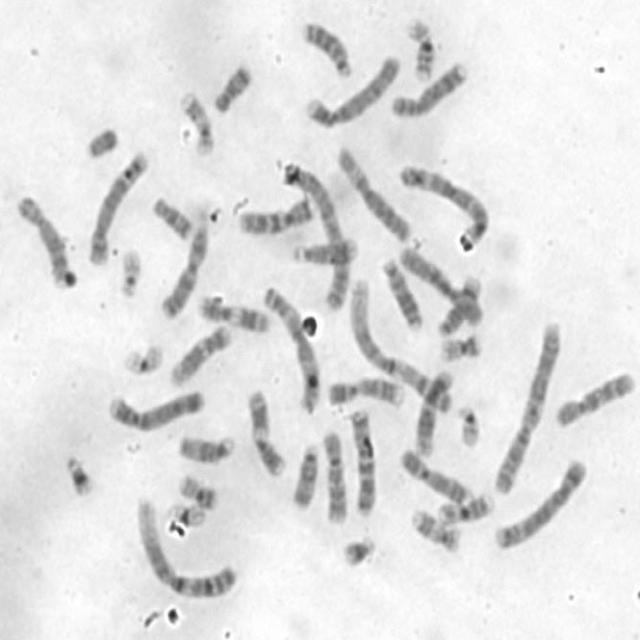A1: (348, 278, 457, 414), (134, 492, 238, 601)
A2: (492, 316, 562, 497), (282, 160, 352, 312)
A3: (400, 164, 492, 254), (263, 286, 322, 416)
B4: (304, 52, 401, 132), (106, 388, 206, 435)
B5: (492, 457, 589, 553), (88, 147, 150, 266)
C10: (554, 370, 637, 431), (322, 426, 351, 527)
C11: (246, 386, 287, 478), (198, 294, 272, 334)
C12: (169, 323, 233, 387), (413, 366, 454, 458)
C6: (336, 144, 413, 243), (398, 244, 485, 330)
C7: (348, 407, 378, 516), (238, 197, 314, 236)
C8: (16, 193, 68, 289), (389, 61, 469, 122)
C9: (398, 449, 474, 506), (325, 374, 406, 412)
D13: (298, 18, 354, 79), (380, 255, 424, 332)
D14: (437, 273, 485, 337), (291, 236, 362, 268)
D15: (290, 441, 320, 512), (177, 434, 235, 464)
E16: (406, 15, 437, 86), (436, 492, 497, 527)
E17: (409, 508, 463, 556), (180, 90, 216, 158)
E18: (212, 62, 251, 117), (151, 196, 195, 242)
F19: (121, 340, 164, 378), (168, 500, 208, 529)
F20: (177, 472, 220, 511), (442, 332, 484, 363)
G21: (61, 451, 95, 498), (339, 532, 379, 568)
G22: (118, 244, 144, 298), (456, 405, 482, 450)
X: (159, 226, 211, 321)
Y: (86, 127, 118, 160)
